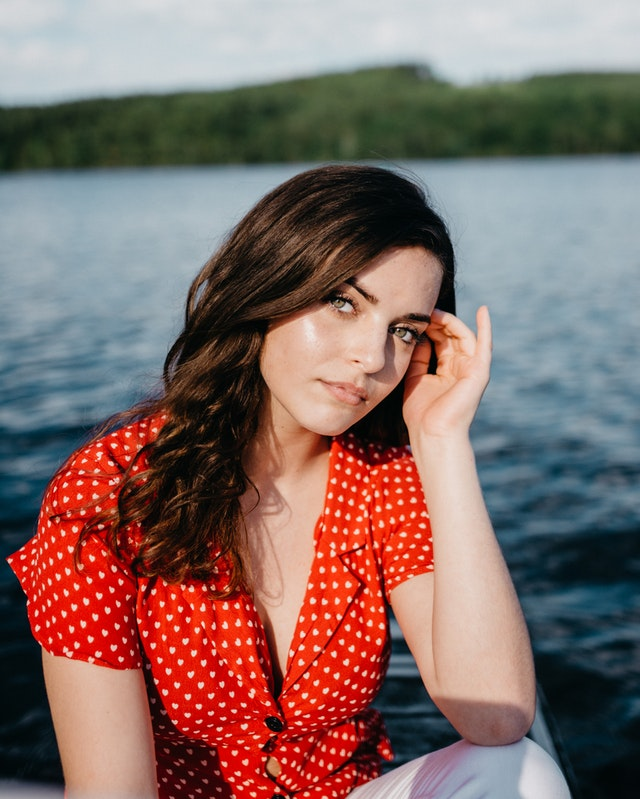eye: (323, 291, 358, 317), (385, 324, 419, 347)
person: (5, 157, 581, 798)
